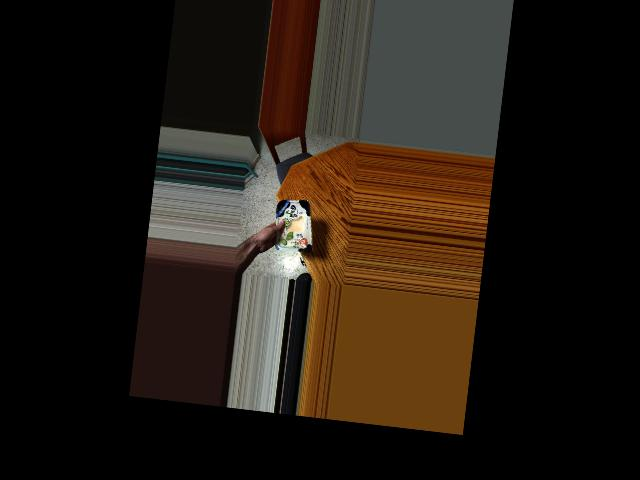cheese: (272, 199, 314, 249)
